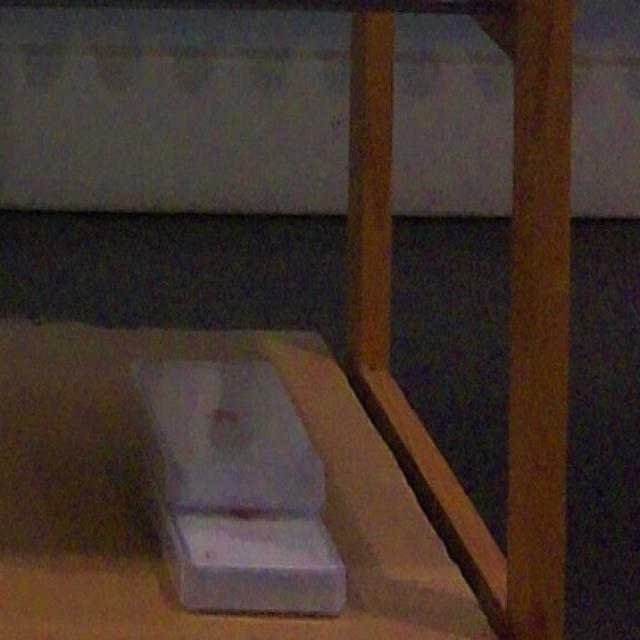Jasskarte: (128, 360, 323, 511), (159, 506, 346, 615)
